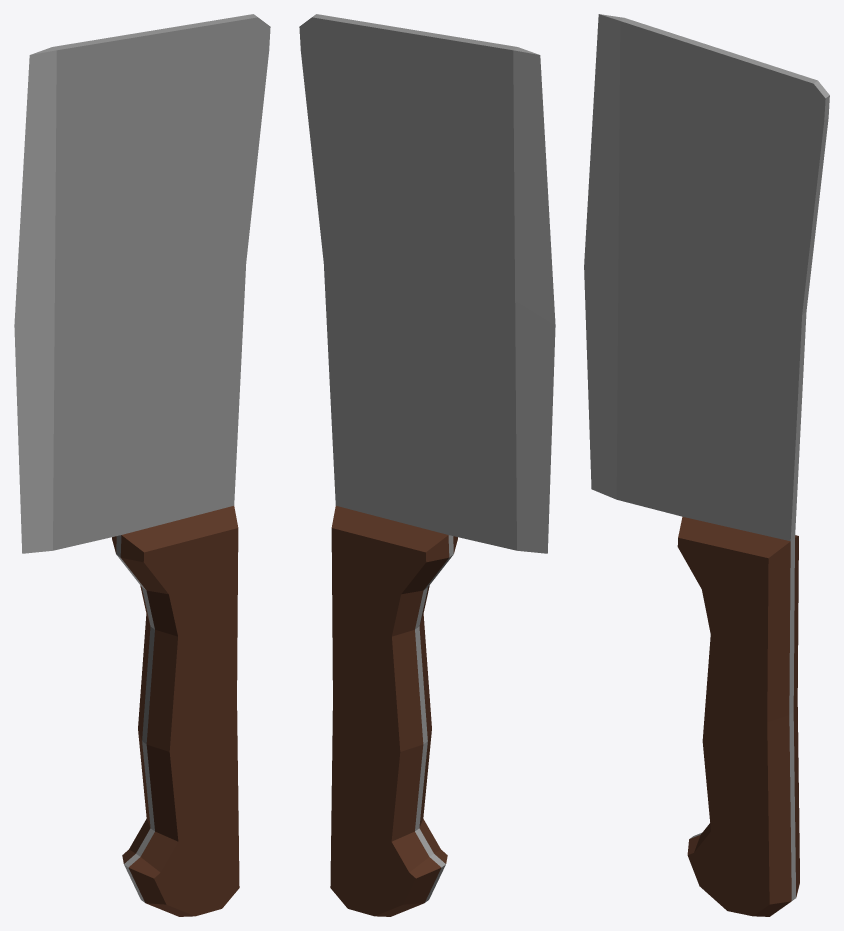
File: Chopper_mat.fbx
3 views of the same model, side by side, from view 1: azimuth 30°, elevation 25°; view 2: azimuth 150°, elevation 25°; view 3: azimuth 330°, elevation 25° (orthographic). The views are drawn at different scales.
Visible parts, largest first — view 1: Chopper_mat; view 2: Chopper_mat; view 3: Chopper_mat.
Part boxes in pixels (x1=…): Chopper_mat: x1=14, y1=14, x2=270, y2=916; Chopper_mat: x1=299, y1=14, x2=555, y2=916; Chopper_mat: x1=584, y1=14, x2=829, y2=916.
Size of the model in its own units: 10.21 by 34.45 by 2.21.
